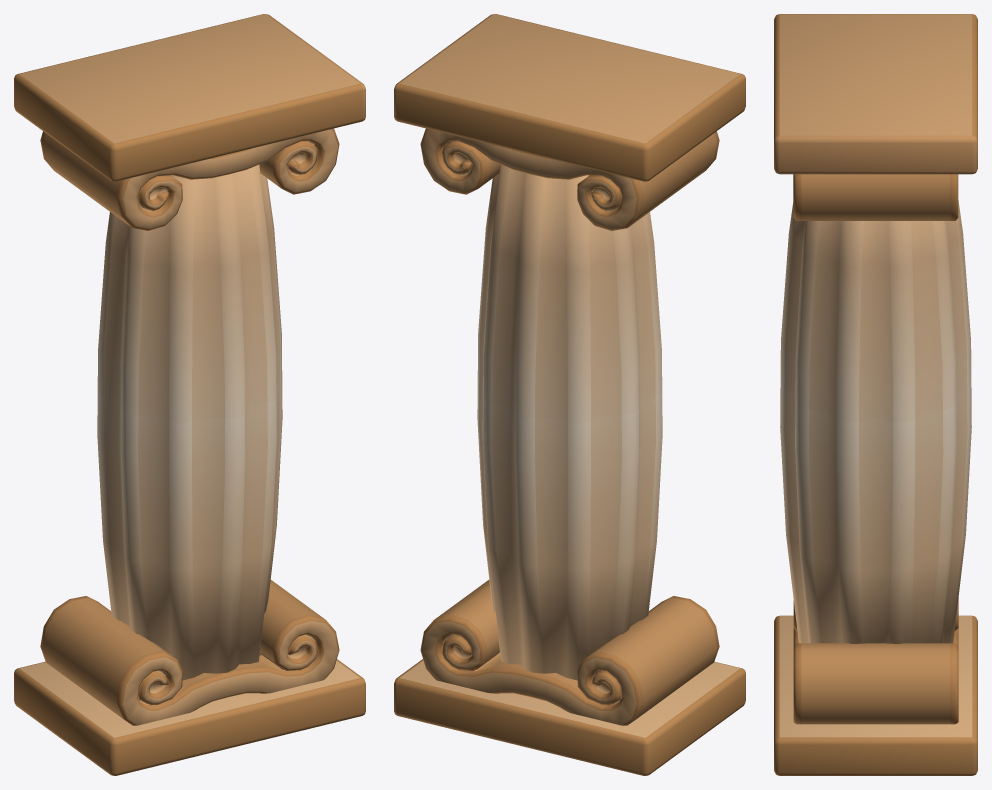
File: Coluna_grega.fbx
3 views of the same model, side by side, from view 1: azimuth 30°, elevation 25°; view 2: azimuth 150°, elevation 25°; view 3: azimuth 270°, elevation 25° (orthographic).
Parts seen in each view (by area): view 1: Coluna_grega; view 2: Coluna_grega; view 3: Coluna_grega.
Part boxes in pixels (x1,y1,x2,y2): Coluna_grega: (14, 14, 365, 775); Coluna_grega: (394, 14, 745, 775); Coluna_grega: (774, 14, 977, 775).
Size of the model in its own units: 2.62 by 1.79 by 6.2.
